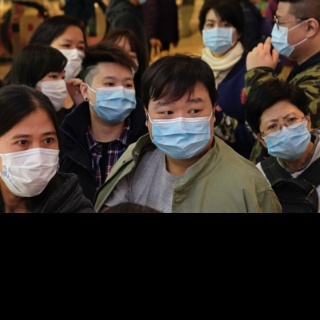with_mask: (149, 96, 214, 161), (0, 129, 59, 196), (263, 110, 312, 163), (91, 73, 137, 124), (270, 12, 304, 59), (52, 36, 85, 80), (201, 17, 236, 56), (39, 69, 68, 110)
